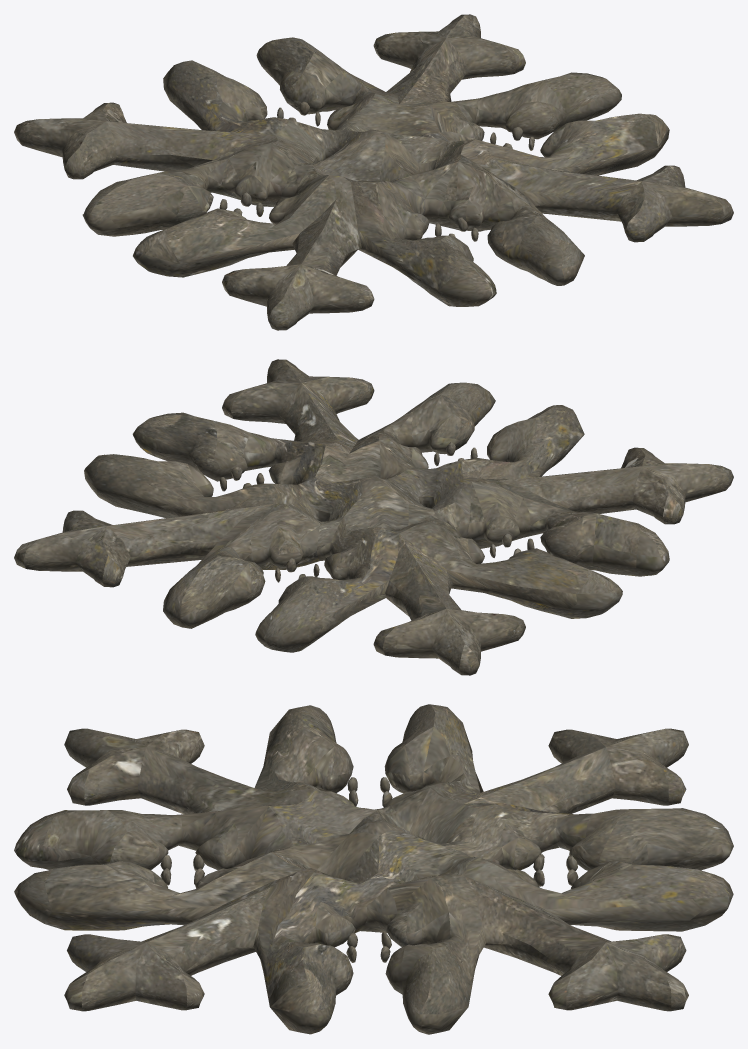
Rendered from 3demblem15.gltf.
The picture shows the model from 3 angles, top to bottom: view 1: azimuth 30°, elevation 25°; view 2: azimuth 150°, elevation 25°; view 3: azimuth 270°, elevation 25°; orthographic projection. The views are drawn at different scales.
Parts seen in each view (by area): view 1: Asset 4.004; view 2: Asset 4.004; view 3: Asset 4.004.
Part boxes in pixels (x1=…): Asset 4.004: x1=14, y1=14, x2=733, y2=330; Asset 4.004: x1=14, y1=359, x2=733, y2=675; Asset 4.004: x1=14, y1=704, x2=733, y2=1034.
Size of the model in its own units: 26.13 by 3.78 by 25.92.
1 material, 1 textured.
